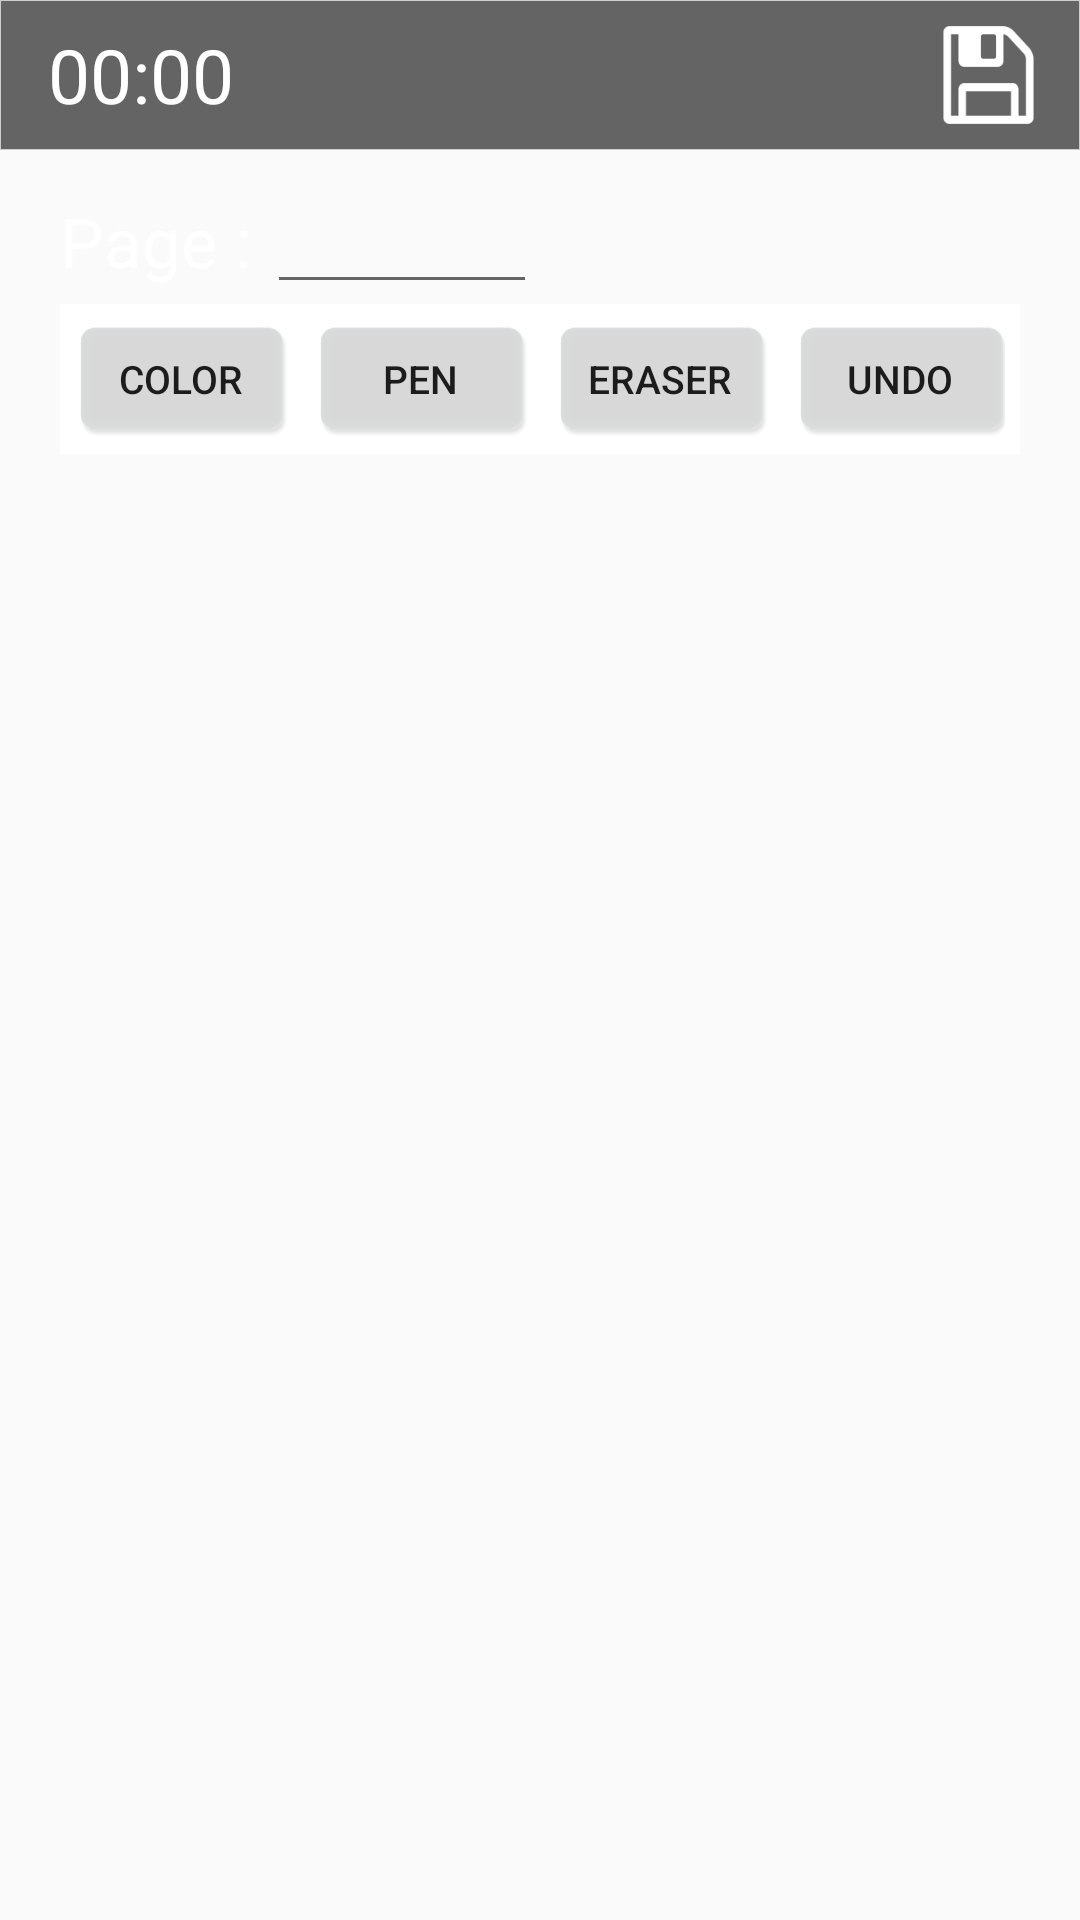

Where to tap for icons on this 1080 × 1920 app screen, as (x=x, y=y):
savebutton: (x=988, y=75)
